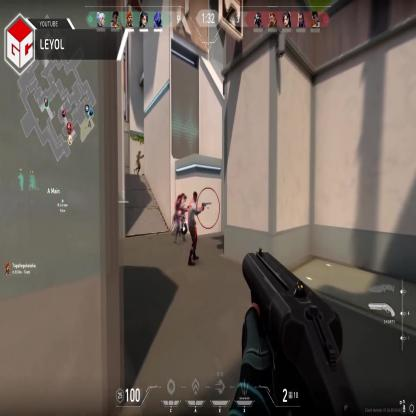enemy: (187, 192, 203, 262), (177, 191, 185, 235), (174, 192, 180, 240), (136, 148, 141, 177)
enemy_head: (192, 192, 198, 203), (184, 195, 188, 203), (177, 195, 180, 203), (138, 150, 141, 154)
